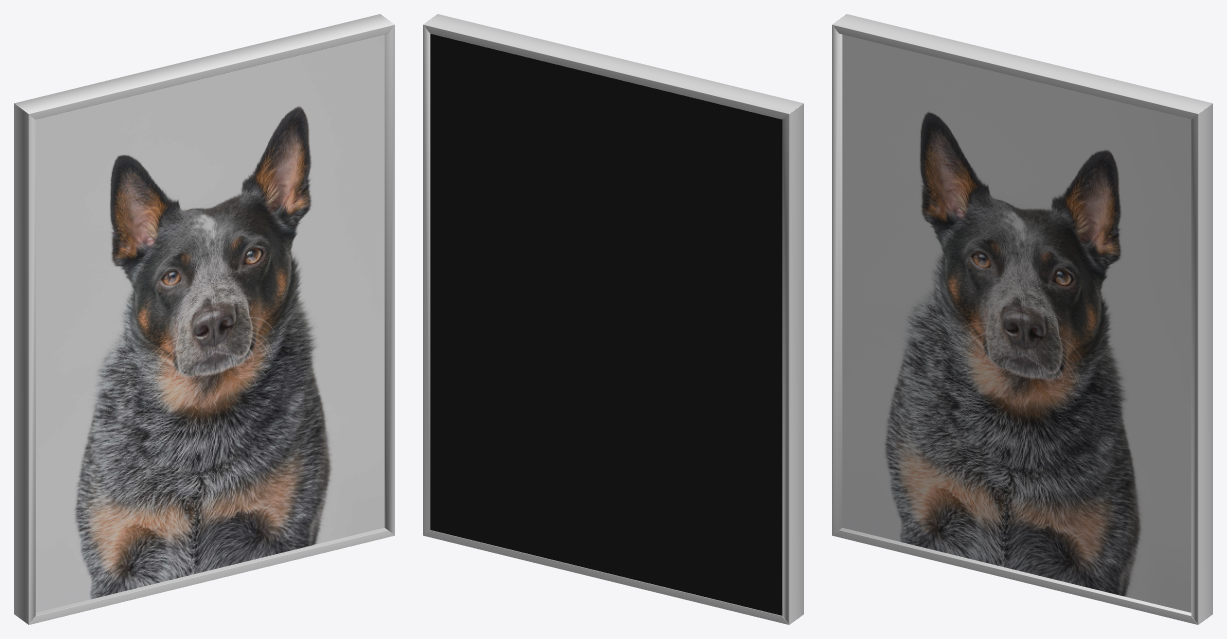
The model's file is gallery_frame_white_18x24_unmatted.glb.
3 renders of one model, left to right at view 1: azimuth 30°, elevation 25°; view 2: azimuth 150°, elevation 25°; view 3: azimuth 330°, elevation 25°, orthographic.
Parts seen in each view (by area): view 1: gallery_frame_white_18x24_unmatted; view 2: gallery_frame_white_18x24_unmatted; view 3: gallery_frame_white_18x24_unmatted.
Part boxes in pixels (x1,y1,x2,y2): gallery_frame_white_18x24_unmatted: (14, 14, 394, 624); gallery_frame_white_18x24_unmatted: (423, 14, 803, 624); gallery_frame_white_18x24_unmatted: (832, 14, 1212, 624).
Bounding box in the file's own units: 0.4572 × 0.6096 × 0.0317.
Materials: 1 (1 with a texture image).
